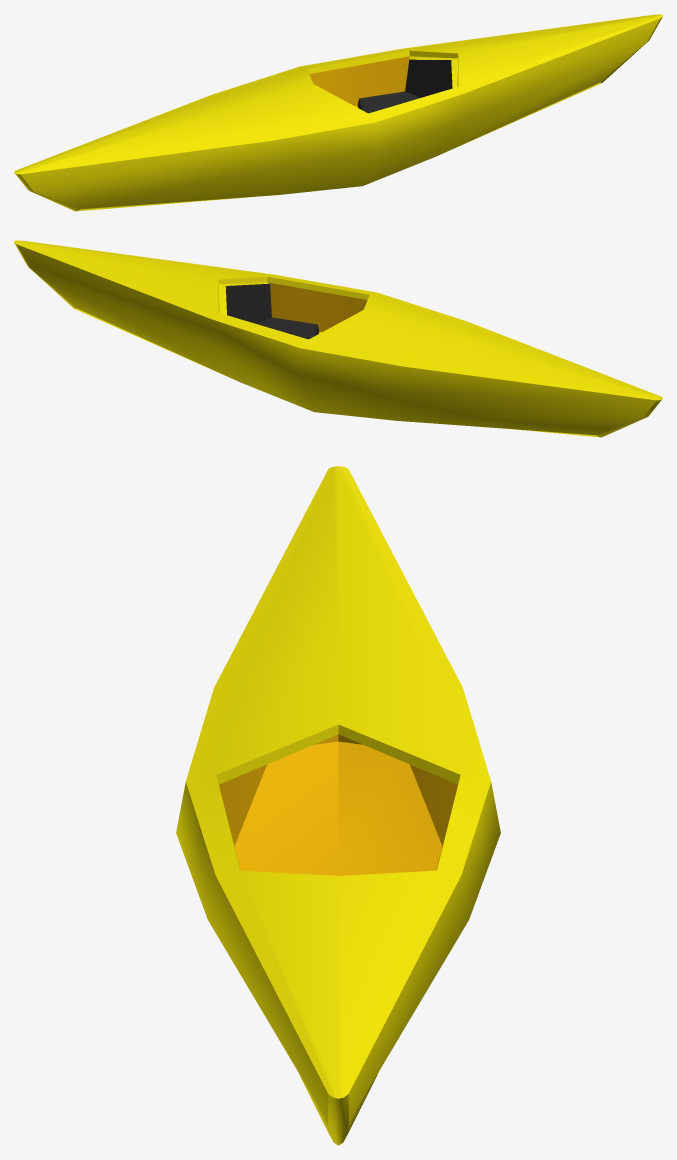
The model's file is kayak.fbx.
3 views of the same model, one above another, from view 1: azimuth 30°, elevation 25°; view 2: azimuth 150°, elevation 25°; view 3: azimuth 270°, elevation 25° (orthographic). The views are drawn at different scales.
Parts seen in each view (by area): view 1: kayak; view 2: kayak; view 3: kayak.
Boxes of the visible parts, x1,y1,x2,y2 form: kayak: (14,14,662,211); kayak: (14,240,662,437); kayak: (176,466,500,1145).
Bounding box in the file's own units: 405 × 55.98 × 87.87.
